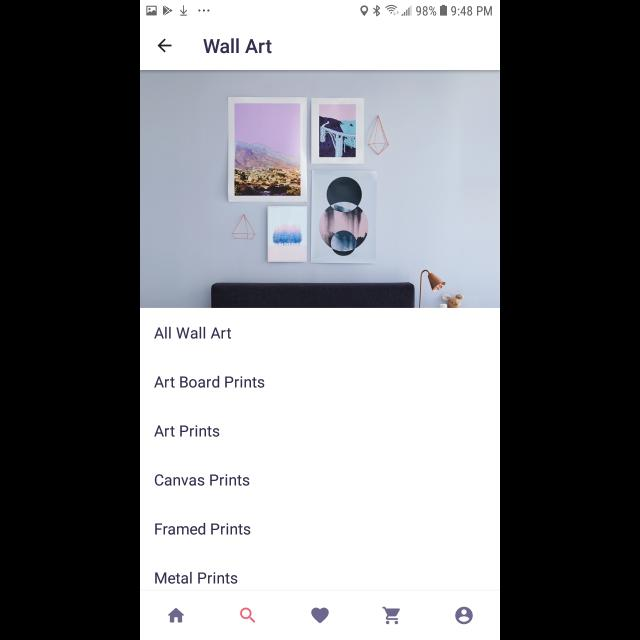icon: (382, 607, 400, 625), (455, 607, 473, 625), (311, 607, 329, 623), (168, 608, 184, 624), (240, 608, 256, 622), (158, 39, 172, 53)
image: (140, 71, 500, 309)
text: (155, 522, 251, 536), (155, 376, 265, 388), (154, 474, 250, 486), (204, 38, 272, 54), (154, 572, 238, 584), (154, 327, 232, 339), (156, 425, 220, 437)
uppertaskbar: (140, 1, 500, 17)
